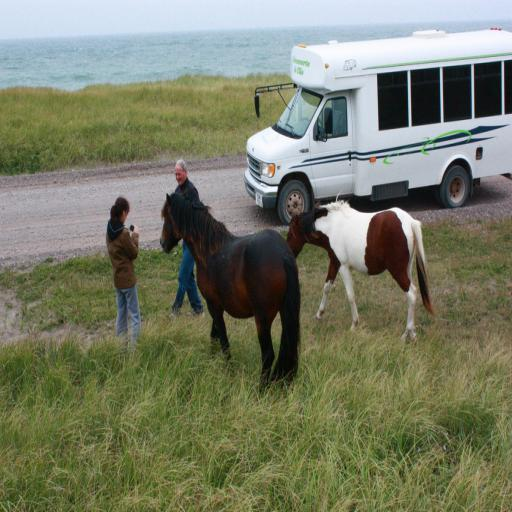horse: (160, 190, 302, 396), (284, 192, 438, 348)
